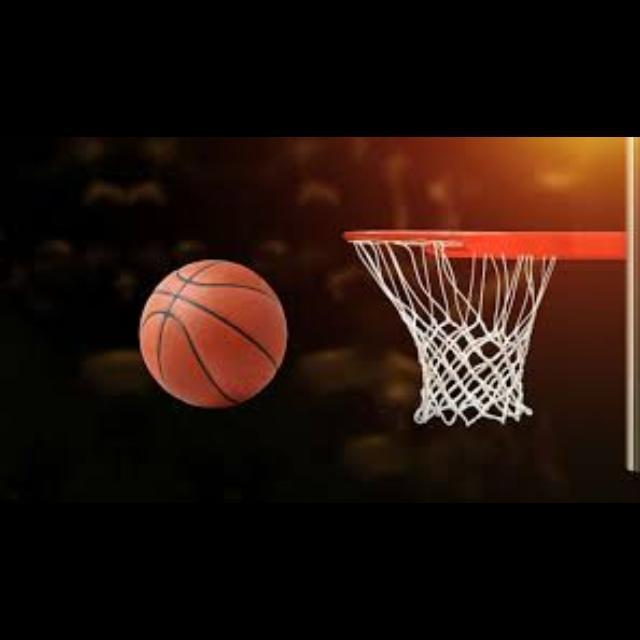basketball: (142, 260, 286, 408)
rim: (346, 230, 558, 424)
